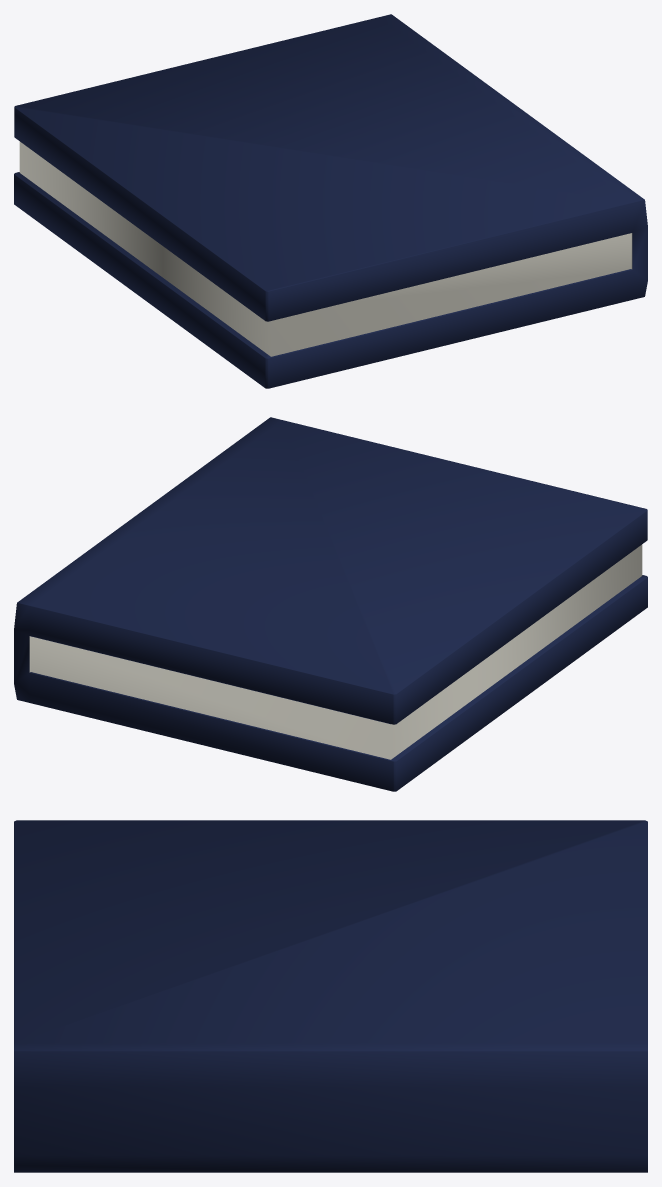
The model's file is Blue Book Closed.fbx.
The picture shows the model from 3 angles, top to bottom: view 1: azimuth 30°, elevation 25°; view 2: azimuth 150°, elevation 25°; view 3: azimuth 270°, elevation 25°; orthographic projection. The views are drawn at different scales.
Visible parts, largest first — view 1: Cover.003, Blue Book Closed; view 2: Cover.003, Blue Book Closed; view 3: Cover.003.
Boxes of the visible parts, bbox=[...] form: Cover.003: bbox=[14, 14, 647, 388]; Blue Book Closed: bbox=[19, 141, 632, 356]; Cover.003: bbox=[14, 417, 647, 791]; Blue Book Closed: bbox=[29, 544, 642, 759]; Cover.003: bbox=[14, 820, 647, 1172].
Size of the model in its own units: 239 by 58.23 by 275.
